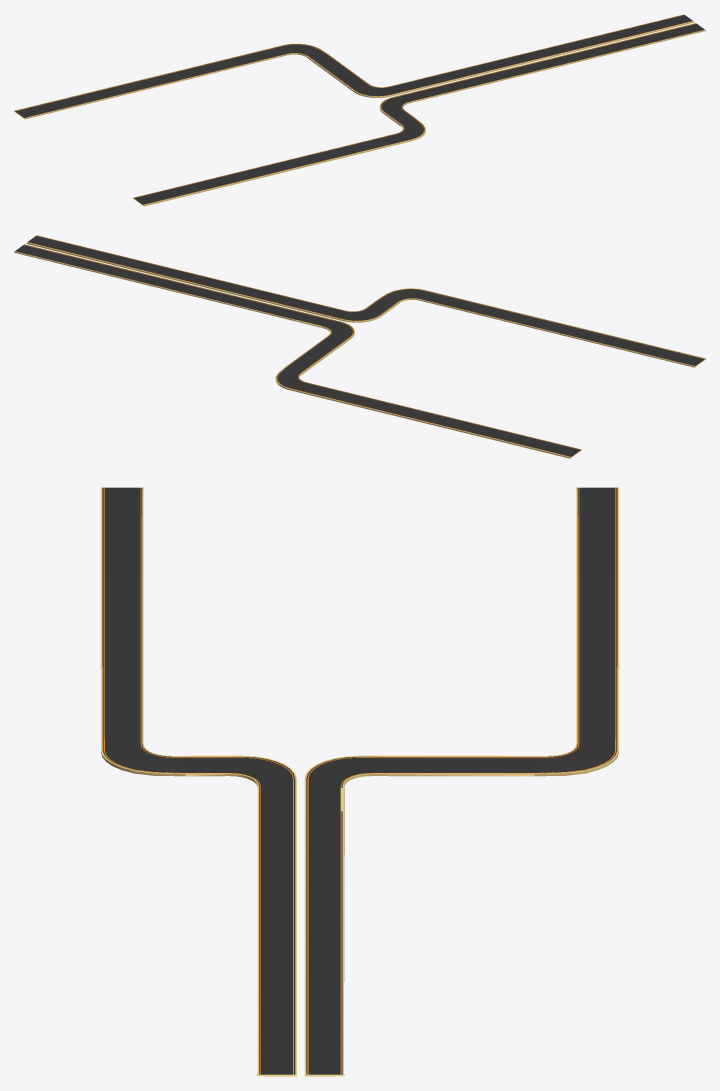
File: Road.FBX
3 renders of one model, top to bottom at view 1: azimuth 30°, elevation 25°; view 2: azimuth 150°, elevation 25°; view 3: azimuth 270°, elevation 25°, orthographic. The views are drawn at different scales.
Visible parts, largest first — view 1: Road, Road1; view 2: Road, Road1; view 3: Road, Road1.
Boxes of the visible parts, <box> form: Road: <box>14,14,693,119</box>; Road1: <box>133,23,705,206</box>; Road: <box>14,244,581,458</box>; Road1: <box>26,235,705,367</box>; Road: <box>304,487,619,1076</box>; Road1: <box>100,487,296,1076</box>.
Size of the model in its own units: 22113 by 45.72 by 8256.
